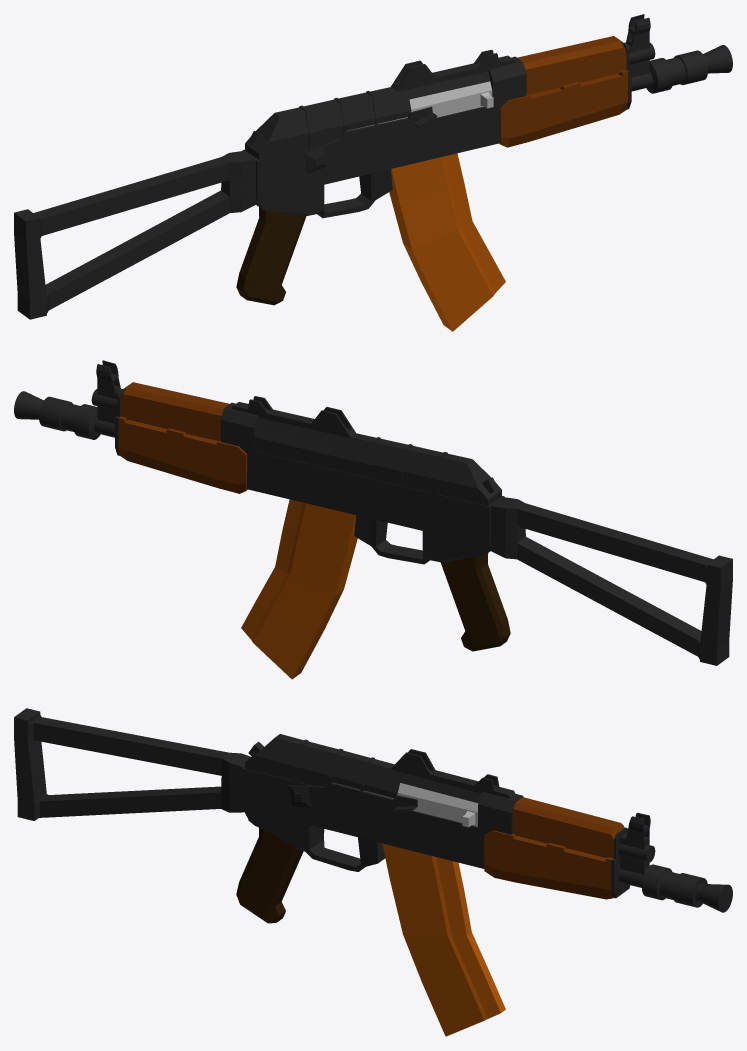
3 views of the same model, one above another, from view 1: azimuth 30°, elevation 25°; view 2: azimuth 150°, elevation 25°; view 3: azimuth 330°, elevation 25° (orthographic).
Visible parts, largest first — view 1: body, buttstock, magazine, safety, bolt; view 2: body, buttstock, magazine; view 3: body, buttstock, magazine, safety, bolt.
Boxes of the visible parts, box(x1,y1,x2,y2) form: body: box(236, 14, 732, 305); buttstock: box(14, 150, 258, 319); magazine: box(389, 153, 505, 331); safety: box(304, 106, 437, 173); bolt: box(347, 81, 493, 130); body: box(14, 360, 510, 651); buttstock: box(488, 497, 732, 665); magazine: box(241, 499, 357, 679); body: box(236, 734, 732, 923); buttstock: box(14, 708, 251, 820); magazine: box(382, 843, 505, 1036); safety: box(289, 782, 417, 812); bolt: box(333, 782, 478, 827).
Bounding box in the file's own units: 3952 × 1461 × 207.
